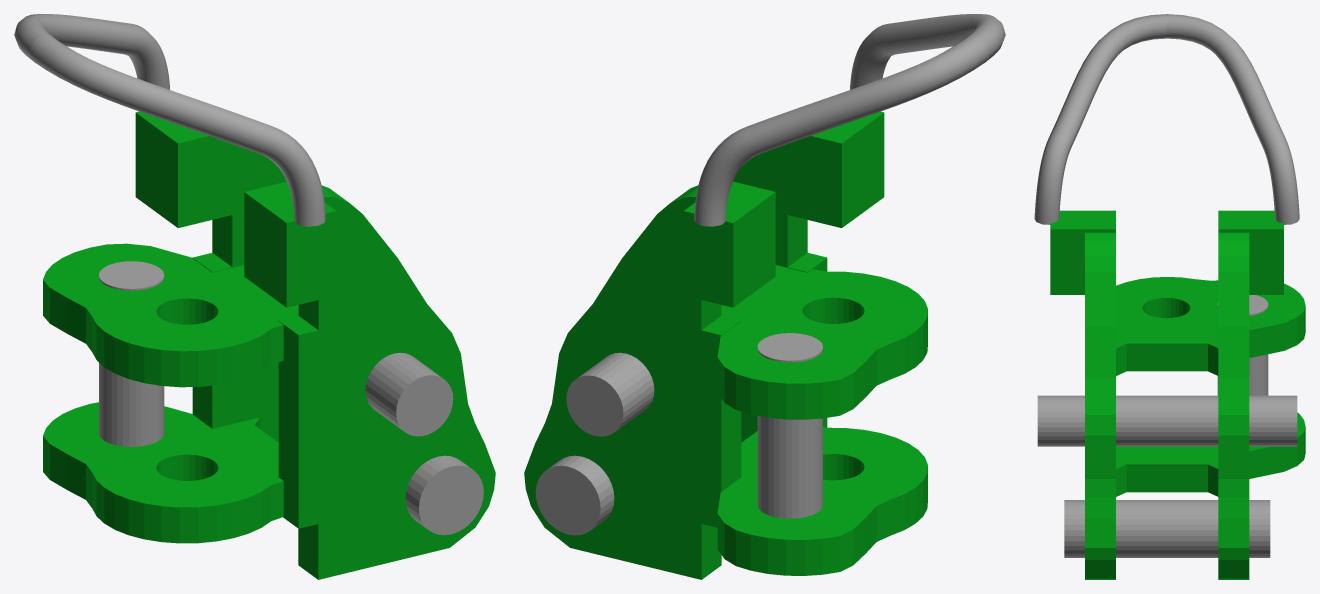
The model's file is ShoulderLink.dae.
The picture shows the model from 3 angles, left to right: view 1: azimuth 30°, elevation 25°; view 2: azimuth 150°, elevation 25°; view 3: azimuth 270°, elevation 25°; orthographic projection. The views are drawn at different scales.
Visible parts, largest first — view 1: AP_Azimut_Front_Plate, AP_Azimuth_Plate1, AP_Azimuth_Plate2, AP_Azimut_Front_Plate_001, AP_Handle, AP_Pivot_Point1_002, AP_Arm_Base_Bolt1, AP_Arm_Base_Bolt2; view 2: AP_Azimut_Front_Plate, AP_Azimuth_Plate1, AP_Azimuth_Plate2, AP_Azimut_Front_Plate_001, AP_Handle, AP_Pivot_Point1_002, AP_Arm_Base_Bolt1, AP_Arm_Base_Bolt2; view 3: AP_Azimut_Front_Plate, AP_Handle, AP_Azimuth_Plate1, AP_Arm_Base_Bolt1, AP_Arm_Base_Bolt2, AP_Azimut_Front_Plate_001, AP_Azimuth_Plate2, AP_Pivot_Point1_002.
Part boxes in pixels (left/top/right/bottom): AP_Azimut_Front_Plate: left=192, top=142, right=495, bottom=579; AP_Azimuth_Plate1: left=43, top=243, right=298, bottom=387; AP_Azimuth_Plate2: left=43, top=402, right=283, bottom=543; AP_Azimut_Front_Plate_001: left=135, top=111, right=336, bottom=307; AP_Handle: left=14, top=14, right=325, bottom=226; AP_Pivot_Point1_002: left=99, top=261, right=164, bottom=446; AP_Arm_Base_Bolt1: left=365, top=352, right=453, bottom=436; AP_Arm_Base_Bolt2: left=405, top=455, right=483, bottom=535; AP_Azimut_Front_Plate: left=524, top=142, right=827, bottom=579; AP_Azimuth_Plate1: left=717, top=265, right=927, bottom=419; AP_Azimuth_Plate2: left=717, top=427, right=927, bottom=575; AP_Azimut_Front_Plate_001: left=683, top=111, right=884, bottom=307; AP_Handle: left=694, top=14, right=1005, bottom=226; AP_Pivot_Point1_002: left=757, top=333, right=822, bottom=518; AP_Arm_Base_Bolt1: left=566, top=352, right=654, bottom=436; AP_Arm_Base_Bolt2: left=535, top=455, right=614, bottom=535; AP_Azimut_Front_Plate: left=1085, top=232, right=1249, bottom=579; AP_Handle: left=1034, top=14, right=1299, bottom=224; AP_Azimuth_Plate1: left=1116, top=277, right=1305, bottom=375; AP_Arm_Base_Bolt1: left=1037, top=395, right=1297, bottom=446; AP_Arm_Base_Bolt2: left=1064, top=500, right=1270, bottom=557; AP_Azimut_Front_Plate_001: left=1050, top=210, right=1283, bottom=294; AP_Azimuth_Plate2: left=1116, top=412, right=1305, bottom=496; AP_Pivot_Point1_002: left=1217, top=295, right=1268, bottom=395.
Bounding box in the file's own units: 0.1849 × 0.1364 × 0.2396.
